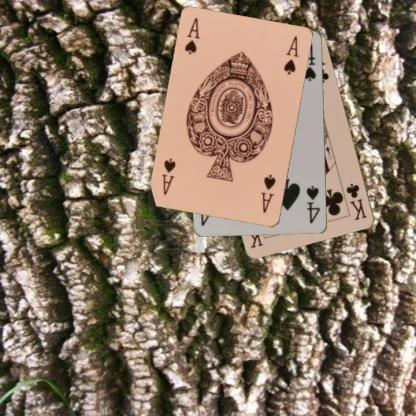4s: (304, 183, 322, 225)
As: (182, 15, 201, 57), (259, 172, 277, 214)
Kc: (344, 181, 368, 222)
